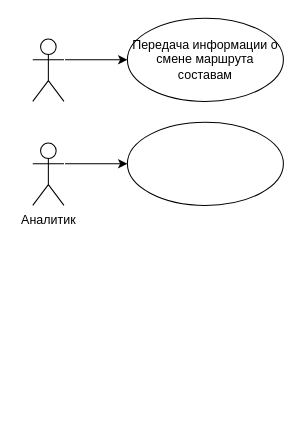
Some shapes in this 302 by 448 pixel diagram are drawn without their labels. Each missing label, with the centre of its shape:
"Анализ эффективности и корректировка маршрута" goes at pixel 204 163.
"Диспетчер" goes at pixel 48 69.
